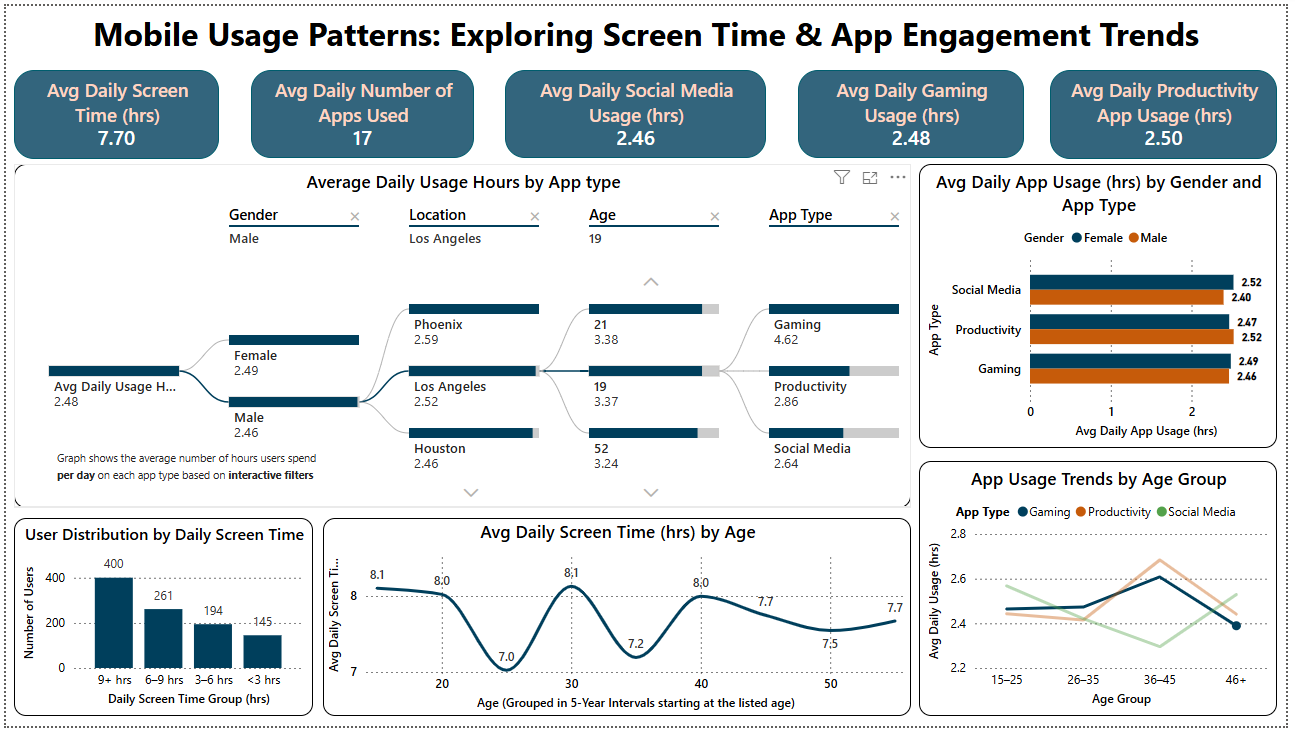

Layout of this report page (visuals, bound fields, positions):
{"tool":"powerbi","page":{"name":"Page 1","canvas":[1280,720],"ordinal":0},"visuals":[{"type":"textbox","box":[0,0,1280,75.8],"z":0},{"type":"decompositionTreeVisual","title":"Average Daily Usage Hours by App type","fields":{"ExplainBy":["mobile_usage_behavioral_analysis.Gender","mobile_usage_behavioral_analysis.Location","mobile_usage_behavioral_analysis.Age","App_Usage_By_Type.App_Usage_Type"],"Analyze":["App_Usage_By_Type.Avg Daily Usage Hours by App Type"]},"box":[8.1,157.6,897.3,343.9],"z":0,"group":"g1"},{"type":"card","title":"Avg Daily Screen Time (hrs)","fields":{"Values":["Avg(mobile_usage_behavioral_analysis.Daily_Screen_Time_Hours)"]},"box":[8.1,63.6,205.1,89],"z":1000},{"type":"card","title":"Avg Daily Number of Apps Used","fields":{"Values":["Avg(mobile_usage_behavioral_analysis.Number_of_Apps_Used)"]},"box":[245.4,63.6,223,88.7],"z":2000},{"type":"card","title":"Avg Daily Social Media Usage (hrs)","fields":{"Values":["Avg(mobile_usage_behavioral_analysis.Social_Media_Usage_Hours)"]},"box":[499,63.6,260.6,88.7],"z":3000},{"type":"card","title":"Avg Daily Productivity App Usage (hrs)","fields":{"Values":["Avg(mobile_usage_behavioral_analysis.Productivity_App_Usage_Hours)"]},"box":[1044.2,63.6,226.6,89],"z":4000},{"type":"card","title":"Avg Daily Gaming Usage (hrs)","fields":{"Values":["Avg(mobile_usage_behavioral_analysis.Gaming_App_Usage_Hours)"]},"box":[791.6,63.6,226.6,88.7],"z":5000},{"type":"lineChart","title":"Avg Daily Screen Time (hrs) by Age","fields":{"Y":["Avg(mobile_usage_behavioral_analysis.Daily_Screen_Time_Hours)"],"Category":["mobile_usage_behavioral_analysis.Age (bins)"]},"box":[317,512.2,588.4,197.9],"z":6000},{"type":"clusteredColumnChart","title":"User Distribution by Daily Screen Time","fields":{"Category":["mobile_usage_behavioral_analysis.ScreenTimeGroup"],"Y":["CountNonNull(mobile_usage_behavioral_analysis.User_ID)"]},"box":[8.1,512.2,299.1,197.9],"z":7000},{"type":"clusteredBarChart","title":"Avg Daily App Usage (hrs) by Gender and App Type","fields":{"Category":["App_Usage_By_Type.App Type"],"Y":["Avg(App_Usage_By_Type.Usage_Hours)"],"Series":["GenderLookup.Gender"]},"box":[913.4,157.6,357.3,284.8],"z":8000},{"type":"lineChart","title":"App Usage Trends by Age Group","fields":{"Y":["Avg(App_Usage_By_Type.Usage_Hours)"],"Series":["App_Usage_By_Type.App Type"],"Category":["App_Usage_By_Type.Age_Group"]},"box":[913.4,454.9,357.3,255.2],"z":9000},{"type":"textbox","box":[45.9,436.5,281.6,61.4],"z":11000,"group":"g1"},{"type":"group","id":"g1","title":"Group 1","box":[8.1,157.6,897.3,343.9],"z":11001}]}

Visuals, with their boxes in screenshot pixels (x1, y1, x2, y2), scaled from the page's 1280x720 canvas onto the 1295x731 screenshot:
textbox: (x1=0, y1=0, x2=1294, y2=77)
"Average Daily Usage Hours by App type" decompositionTreeVisual: (x1=8, y1=160, x2=916, y2=509)
"Avg Daily Screen Time (hrs)" card: (x1=8, y1=65, x2=216, y2=155)
"Avg Daily Number of Apps Used" card: (x1=248, y1=65, x2=474, y2=155)
"Avg Daily Social Media Usage (hrs)" card: (x1=505, y1=65, x2=769, y2=155)
"Avg Daily Productivity App Usage (hrs)" card: (x1=1056, y1=65, x2=1286, y2=155)
"Avg Daily Gaming Usage (hrs)" card: (x1=801, y1=65, x2=1030, y2=155)
"Avg Daily Screen Time (hrs) by Age" lineChart: (x1=321, y1=520, x2=916, y2=721)
"User Distribution by Daily Screen Time" clusteredColumnChart: (x1=8, y1=520, x2=311, y2=721)
"Avg Daily App Usage (hrs) by Gender and App Type" clusteredBarChart: (x1=924, y1=160, x2=1286, y2=449)
"App Usage Trends by Age Group" lineChart: (x1=924, y1=462, x2=1286, y2=721)
textbox: (x1=46, y1=443, x2=331, y2=506)
"Group 1" group: (x1=8, y1=160, x2=916, y2=509)
